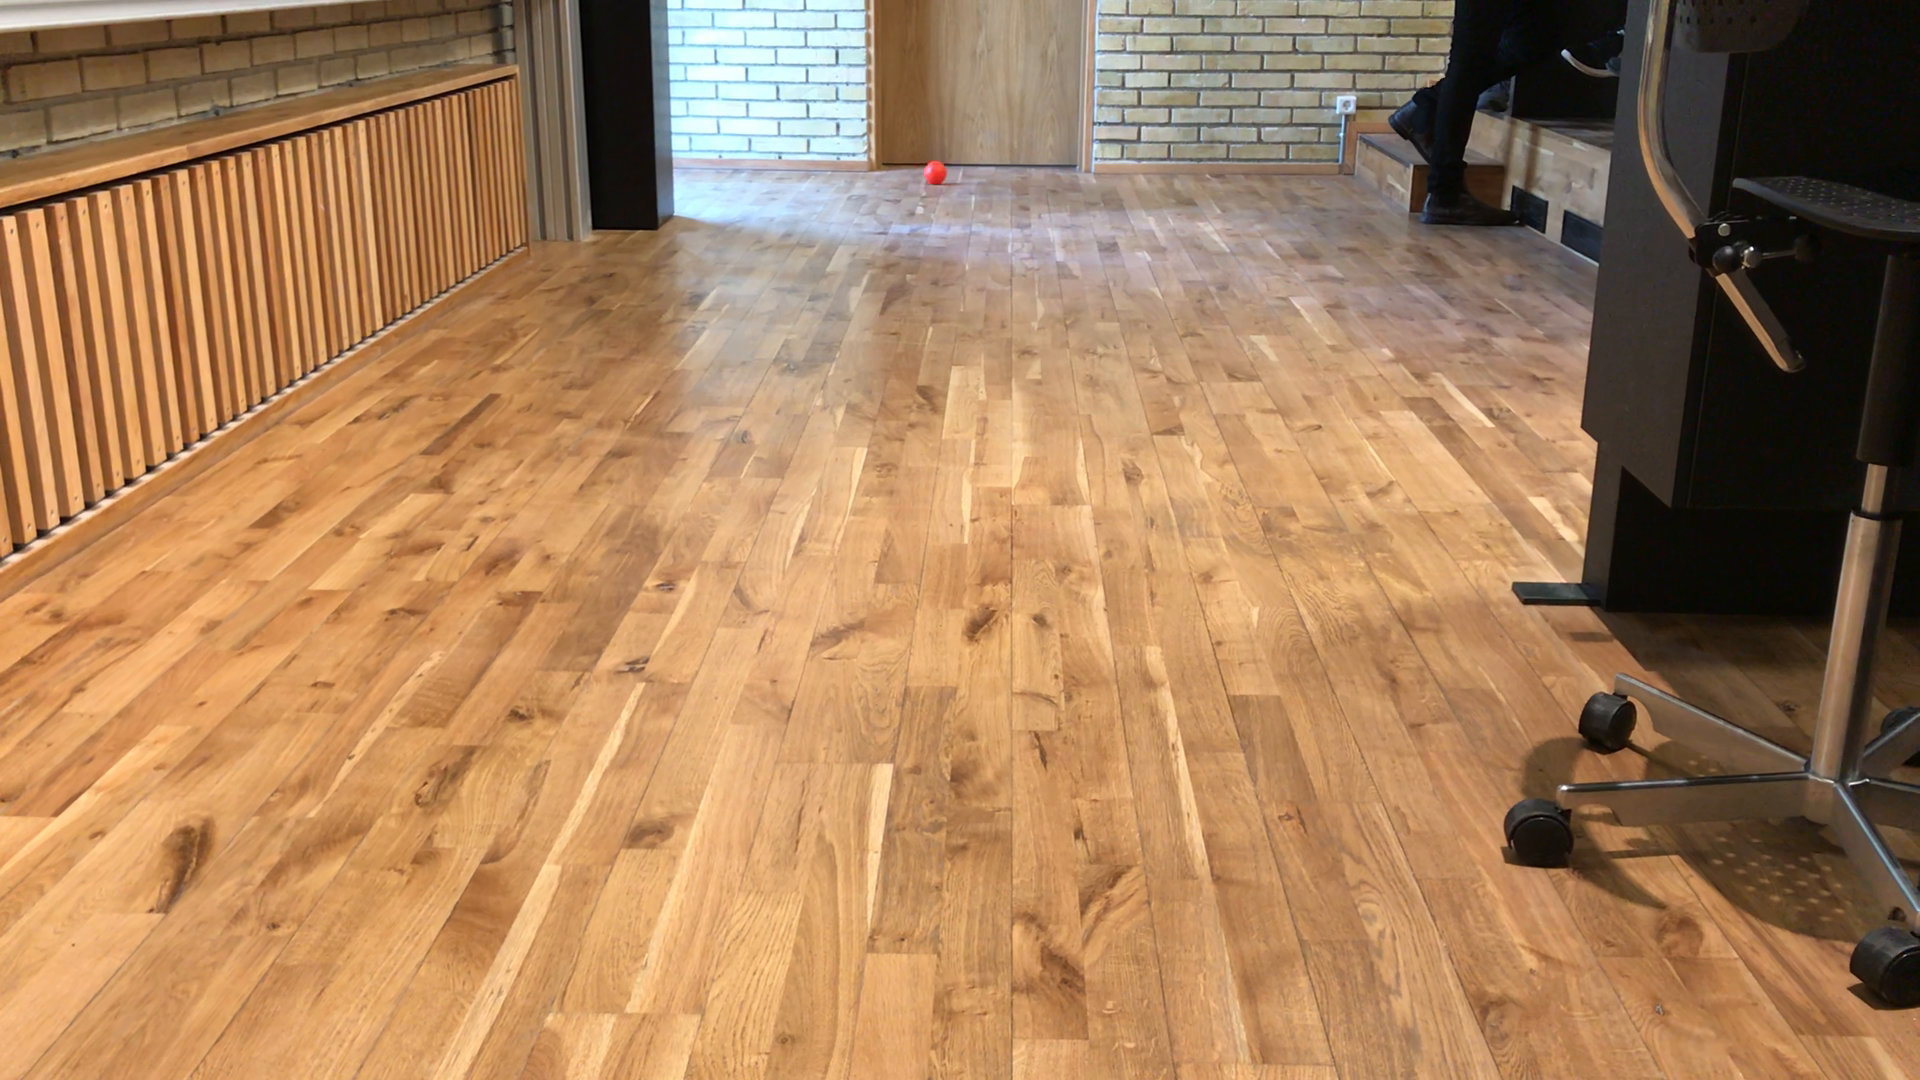Ball: (923, 160, 947, 182)
